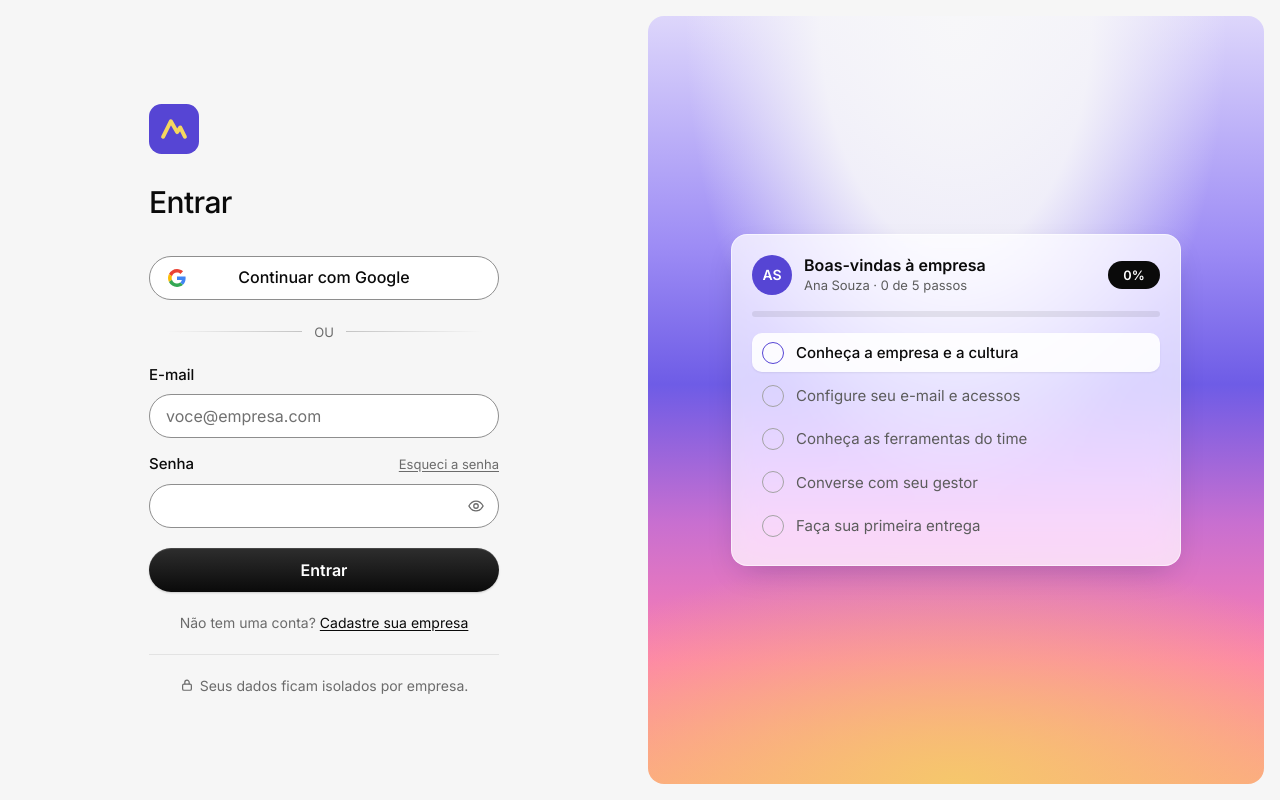
Test: autenticação › mostra e esconde a senha pelo ícone de olho
Type "segredo123" into the password field labelled "Senha" at (324, 506), box [149,484,499,528]
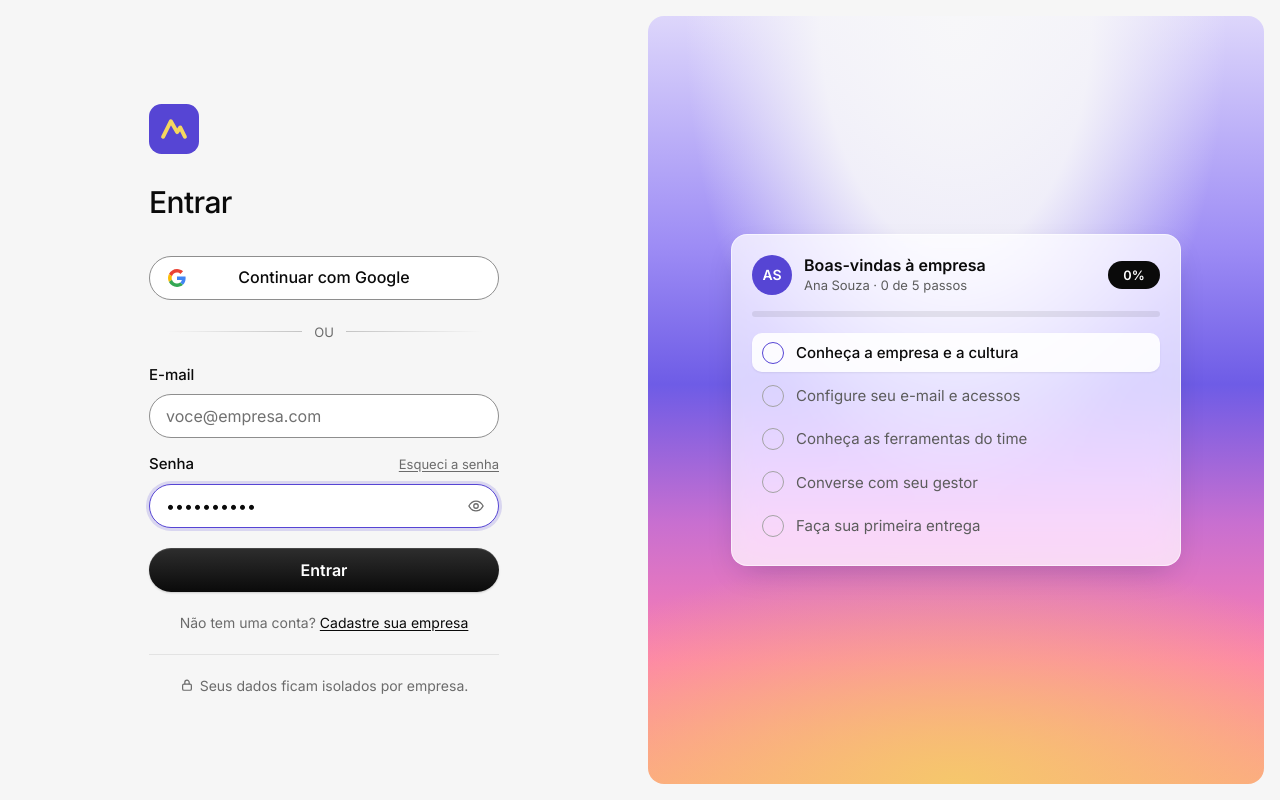
Click the button named "Mostrar senha" at (476, 506), box [459,489,493,523]
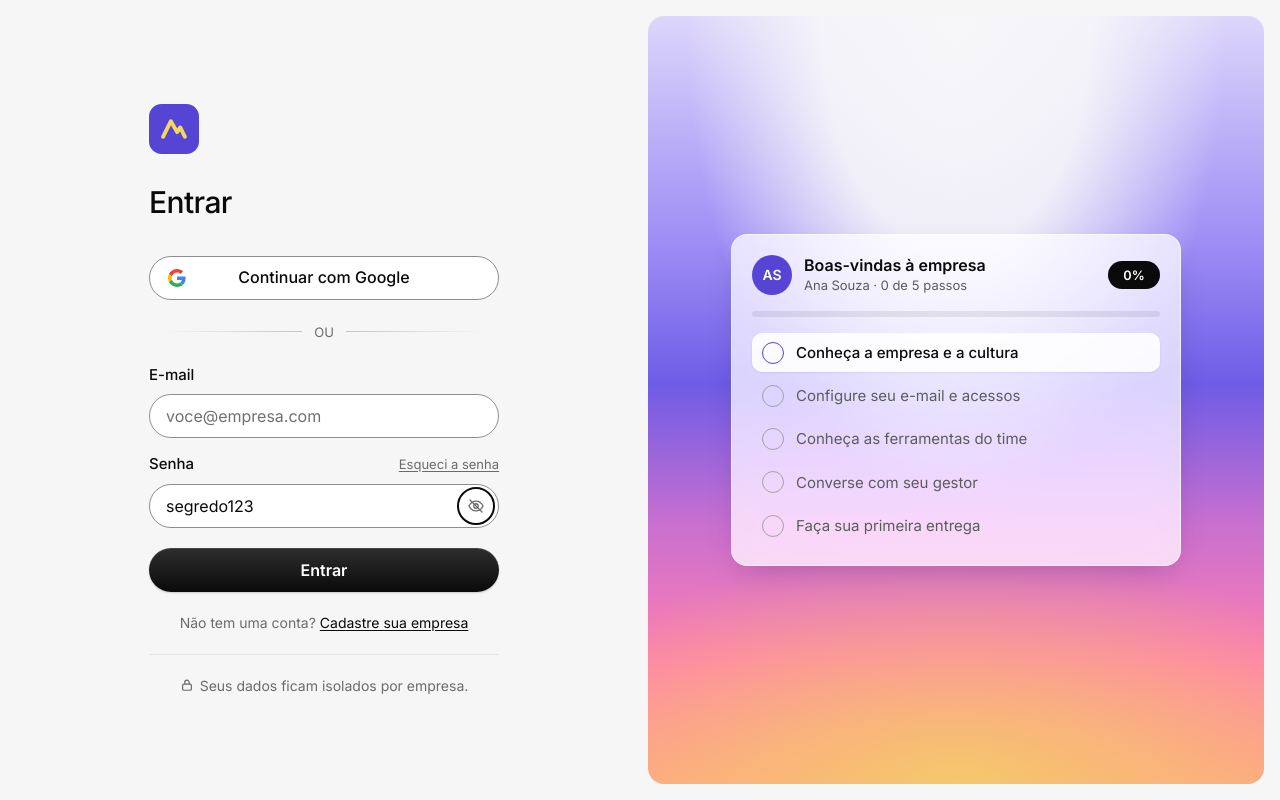
Check: the field labelled "Senha" shows its text, box [149,484,499,528]
Click the button named "Ocultar senha" at (476, 506), box [459,489,493,523]
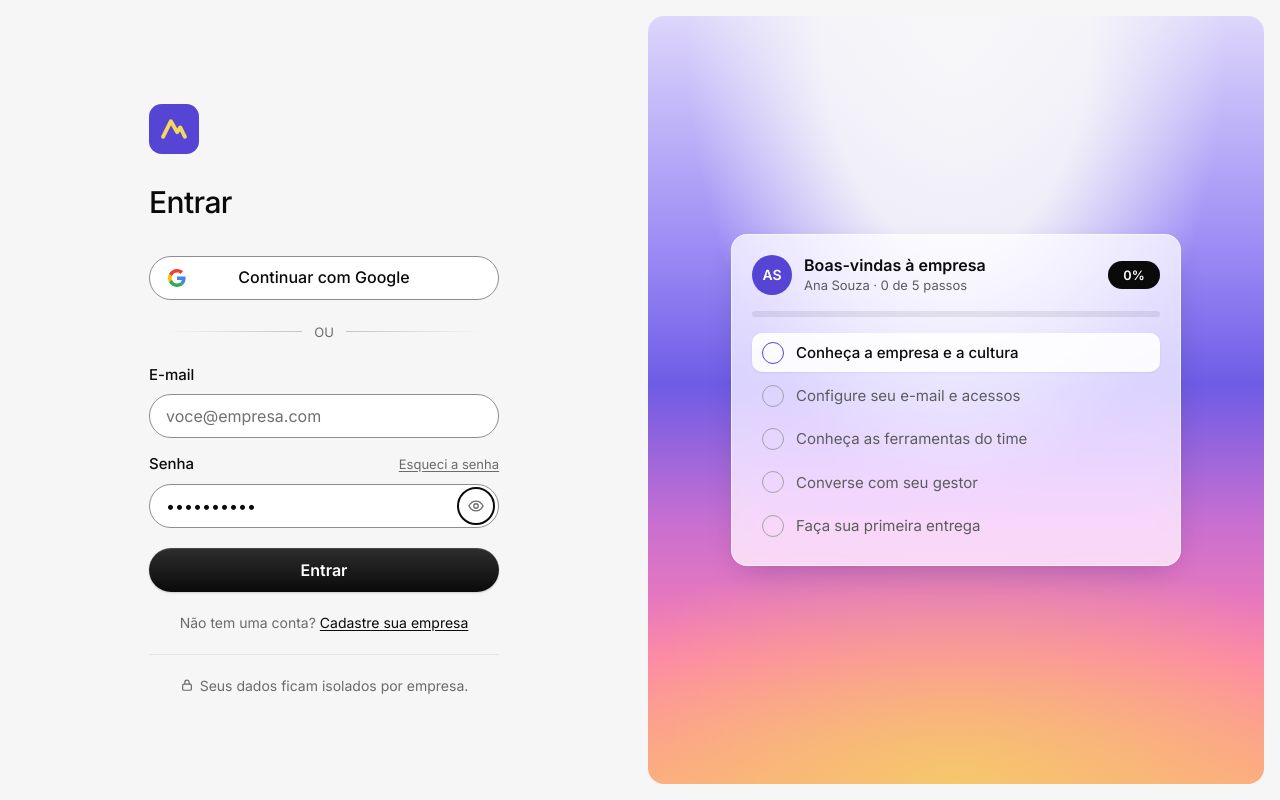
Check: the password field labelled "Senha" hides its text, box [149,484,499,528]
